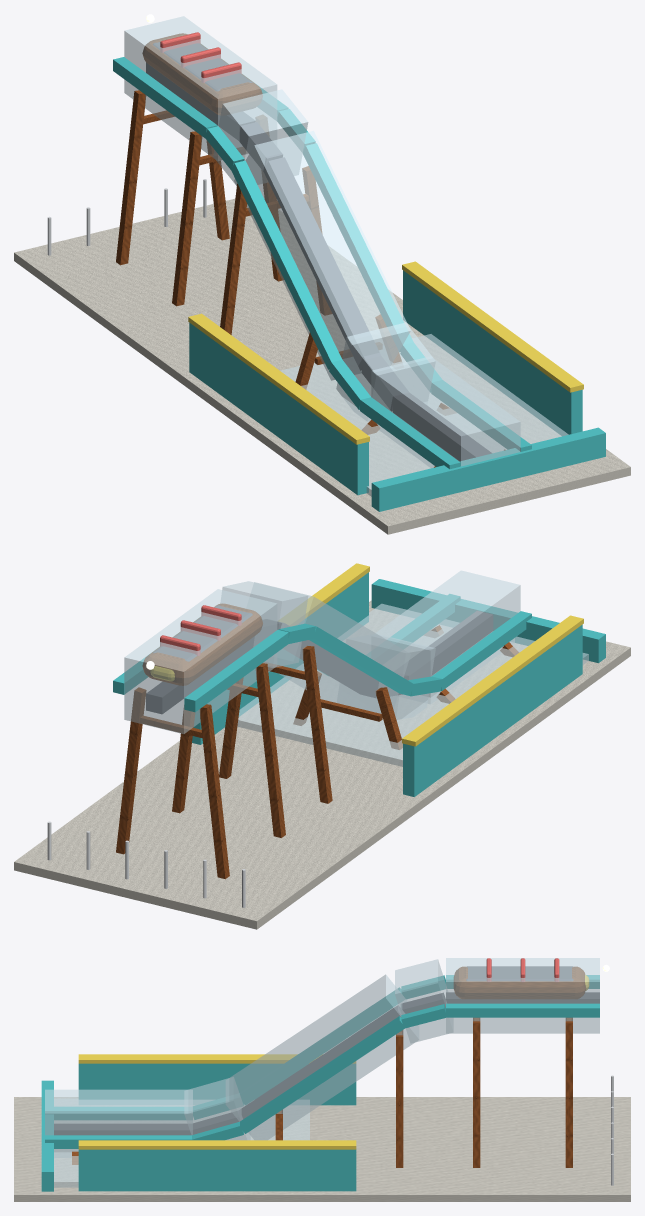
File: theme-park-rides-and-coasters-theme-park-rides-and-coa-a062f1af__28662.glb
3 views of the same model, one above another, from view 1: azimuth 30°, elevation 25°; view 2: azimuth 150°, elevation 25°; view 3: azimuth 270°, elevation 25° (orthographic). The views are drawn at different scales.
Parts seen in each view (by area): view 1: theme-park-rides-and-coasters-log-flume-section; view 2: theme-park-rides-and-coasters-log-flume-section; view 3: theme-park-rides-and-coasters-log-flume-section.
Part boxes in pixels (x1,y1,x2,y2): theme-park-rides-and-coasters-log-flume-section: (14,14,630,534); theme-park-rides-and-coasters-log-flume-section: (14,563,630,929); theme-park-rides-and-coasters-log-flume-section: (14,958,630,1201).
Bounding box in the file's own units: 7.5 × 7.2 × 20.
Materials: 9 (2 with a texture image).
